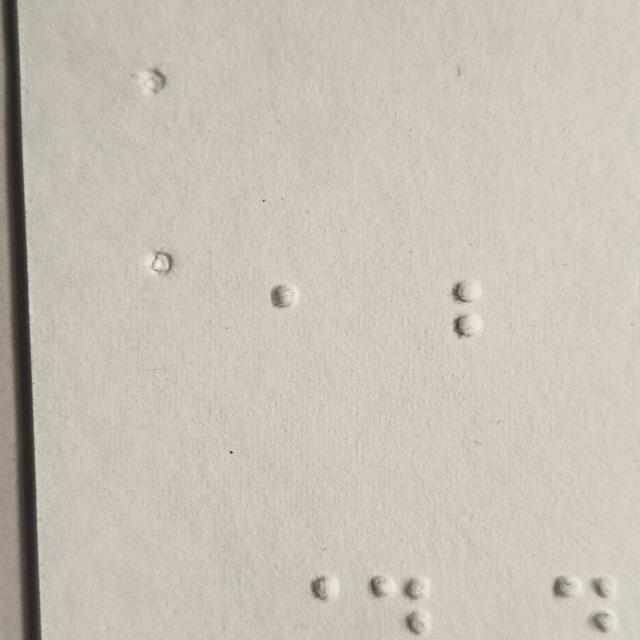letter_a: (269, 283, 340, 379)
letter_b: (452, 278, 523, 375)
